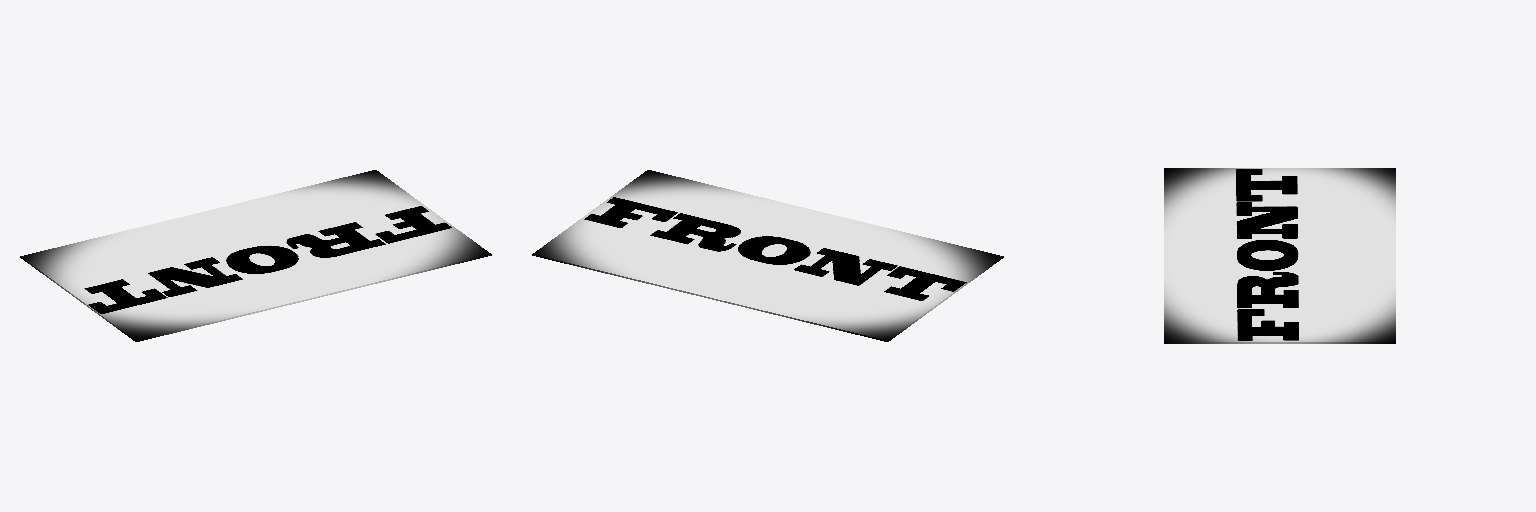
3 renders of one model, left to right at view 1: azimuth 30°, elevation 25°; view 2: azimuth 150°, elevation 25°; view 3: azimuth 270°, elevation 25°, orthographic.
Visible parts, largest first — view 1: Plane; view 2: Plane; view 3: Plane.
Boxes of the visible parts, x1=… form: Plane: x1=20, y1=170, x2=491, y2=341; Plane: x1=532, y1=170, x2=1003, y2=341; Plane: x1=1164, y1=168, x2=1395, y2=343.
Size of the model in its own units: 0.238 by 0.001 by 0.134.
1 materials, 1 textured.